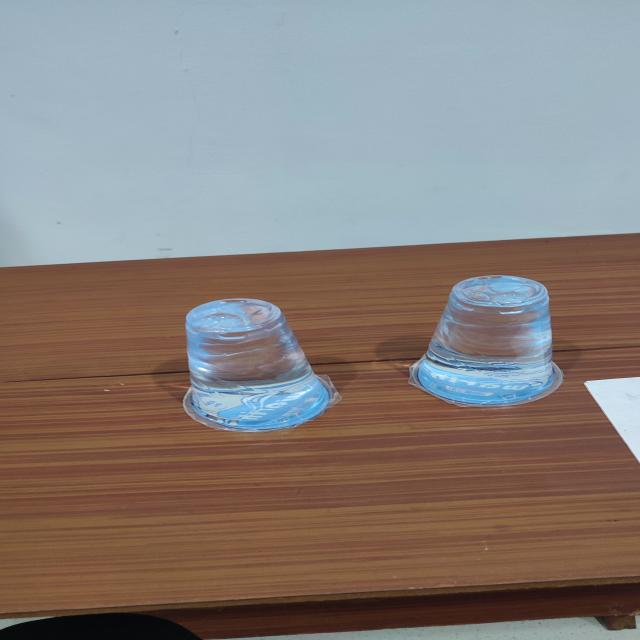air gelas: (174, 297, 359, 433), (407, 276, 576, 411)
